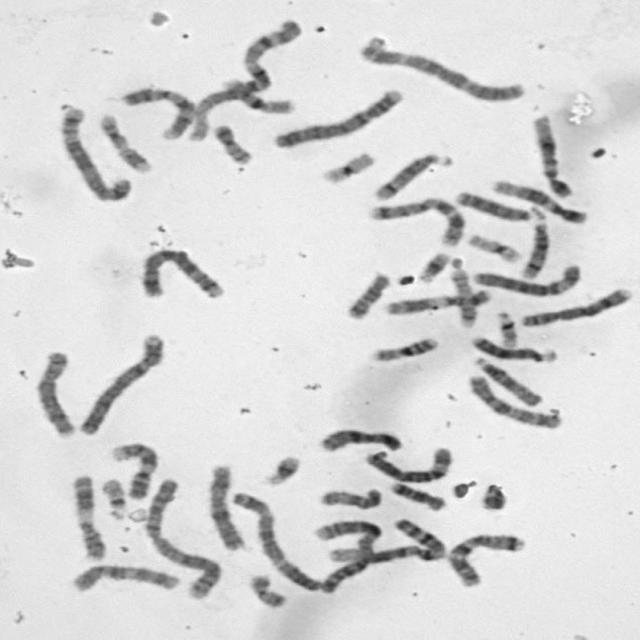A1: (181, 16, 307, 143), (320, 517, 448, 565)
A2: (141, 474, 222, 600), (309, 516, 385, 596)
A3: (354, 36, 528, 104), (228, 488, 323, 592)
B4: (74, 331, 168, 436), (268, 84, 402, 150)
B5: (55, 102, 133, 203), (134, 245, 226, 301)
C10: (464, 372, 564, 430), (66, 560, 182, 594)
C11: (70, 472, 108, 562), (381, 287, 494, 316)
C12: (488, 176, 588, 226), (532, 111, 573, 199)
C6: (470, 260, 586, 298), (360, 444, 456, 484)
C7: (364, 194, 468, 248), (443, 528, 529, 590)
C8: (516, 284, 636, 328), (31, 348, 78, 438)
C9: (117, 84, 200, 140), (108, 440, 161, 501)
D13: (468, 333, 558, 364), (452, 188, 534, 222)
D14: (370, 150, 454, 202), (516, 216, 551, 282)
D15: (470, 354, 545, 408), (315, 484, 384, 510)
E16: (218, 76, 296, 118), (366, 333, 441, 363)
E17: (96, 110, 152, 172), (446, 267, 479, 329)
E18: (341, 270, 392, 320), (387, 479, 448, 512)
F19: (463, 231, 524, 265), (318, 150, 377, 184)
F20: (211, 121, 254, 165), (246, 571, 289, 610)
G21: (259, 452, 303, 488), (414, 250, 452, 284)
G22: (99, 474, 128, 521), (494, 308, 518, 349)
X: (204, 460, 247, 552), (316, 426, 405, 452)
